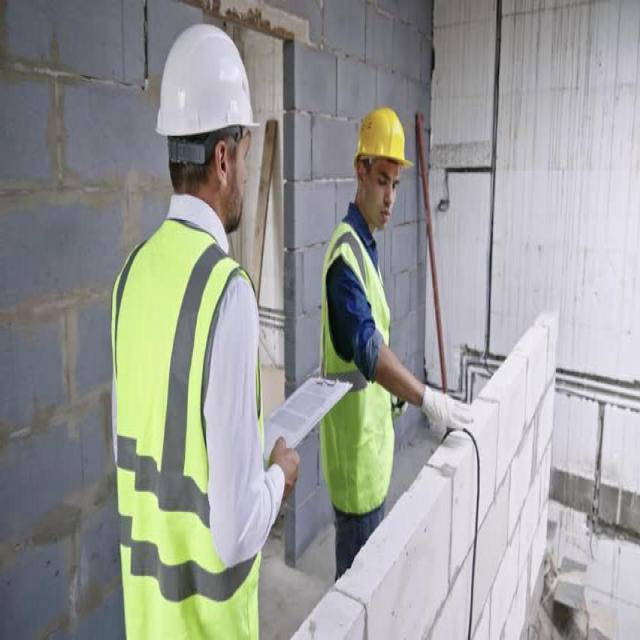Reflective-Jacket: (102, 215, 270, 637), (314, 218, 406, 518)
Safety-Helmet: (150, 16, 263, 149), (347, 97, 415, 179)
